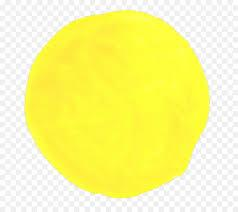yellow_circle: (21, 6, 214, 202)
